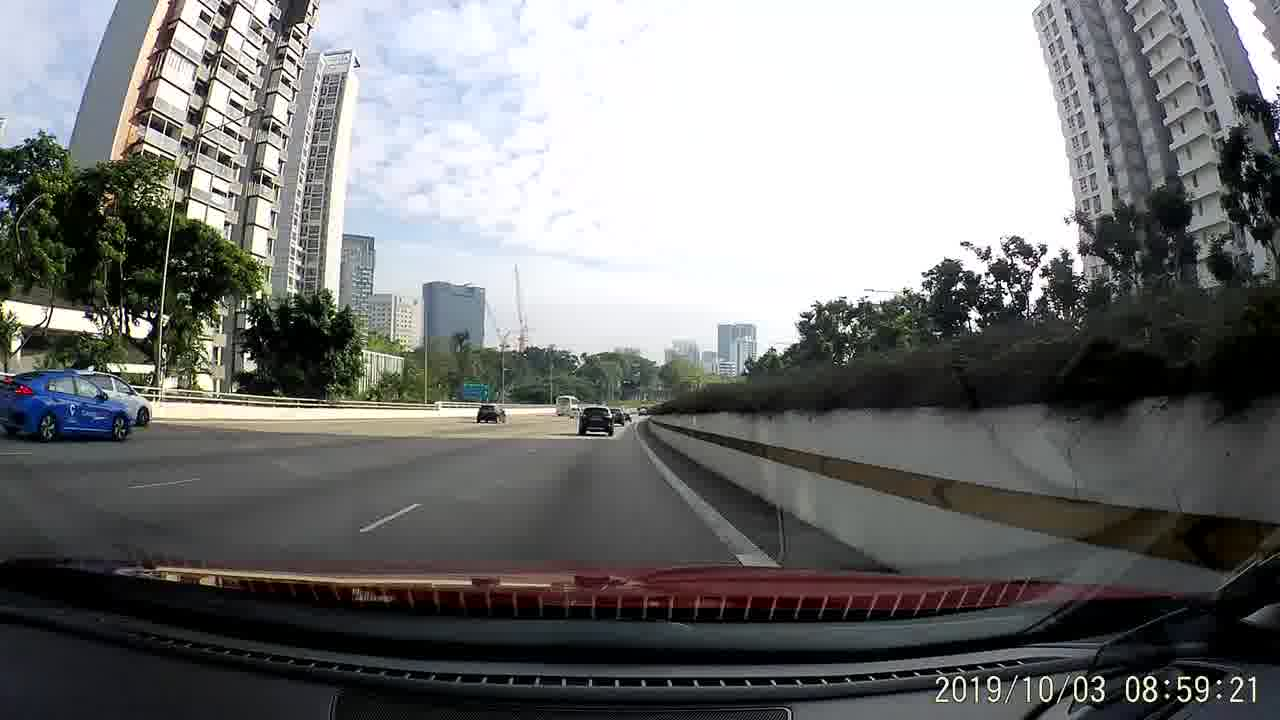car: (0, 372, 134, 443), (76, 372, 150, 427), (576, 404, 615, 437), (473, 400, 508, 424), (609, 407, 625, 424)
